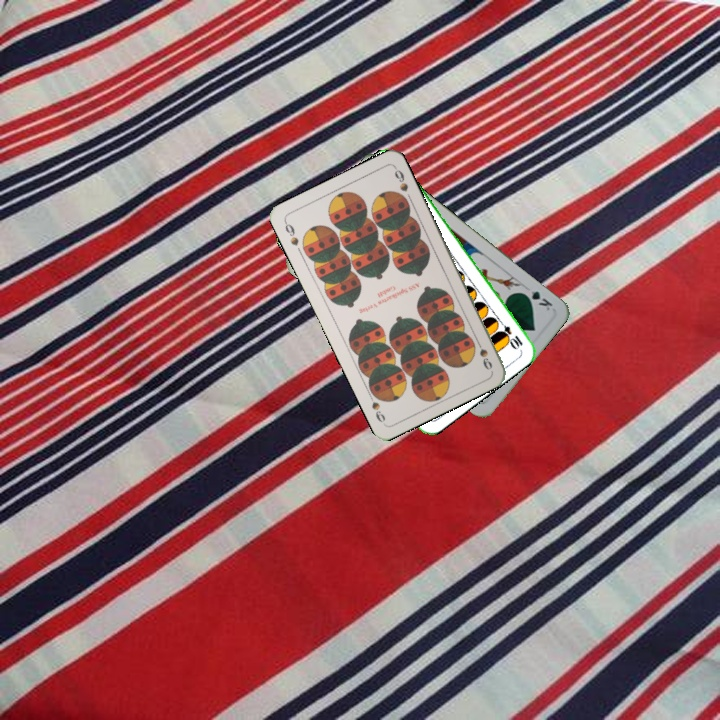E10: (494, 315, 525, 351)
GK: (518, 286, 555, 313)
S9: (471, 334, 495, 372), (280, 217, 301, 248)
